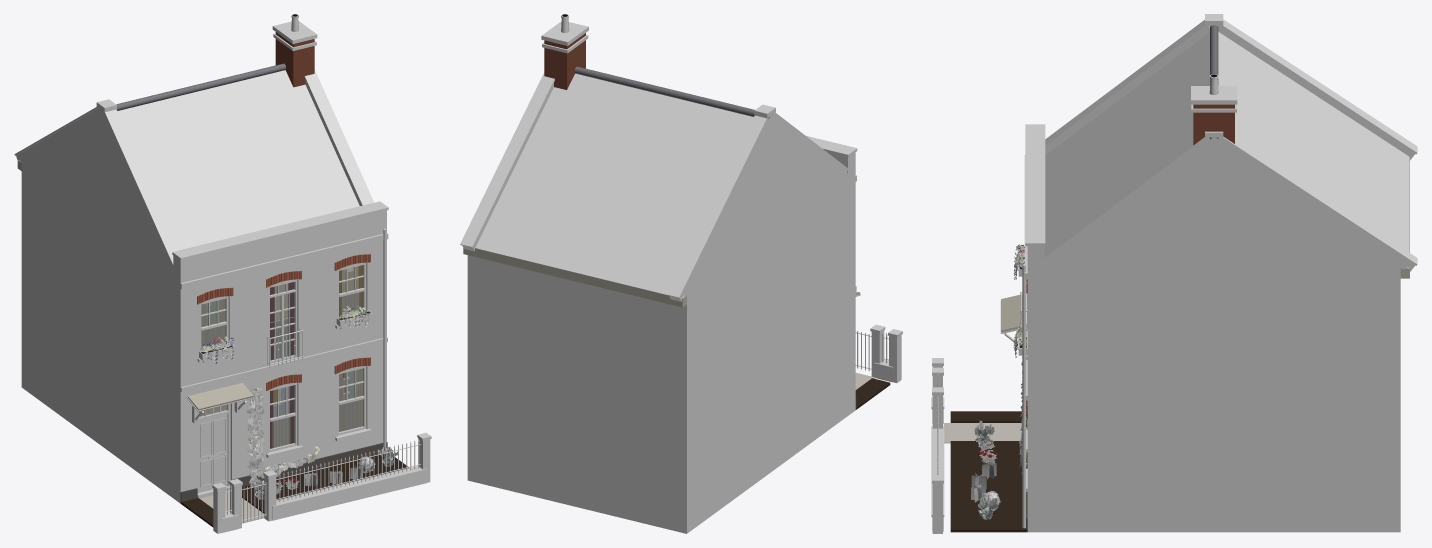
File: Opposite_Opposite1_2.glb
The picture shows the model from 3 angles, left to right: view 1: azimuth 30°, elevation 25°; view 2: azimuth 150°, elevation 25°; view 3: azimuth 270°, elevation 25°; orthographic projection. The views are drawn at different scales.
Visible parts, largest first — view 1: Opposite_Opposite1_2; view 2: Opposite_Opposite1_2; view 3: Opposite_Opposite1_2.
Boxes of the visible parts, x1=… form: Opposite_Opposite1_2: x1=14, y1=14, x2=431, y2=533; Opposite_Opposite1_2: x1=460, y1=14, x2=902, y2=533; Opposite_Opposite1_2: x1=931, y1=14, x2=1417, y2=533.
Size of what is drawn, in the model's own units: 6.22 by 10.63 by 10.42.
